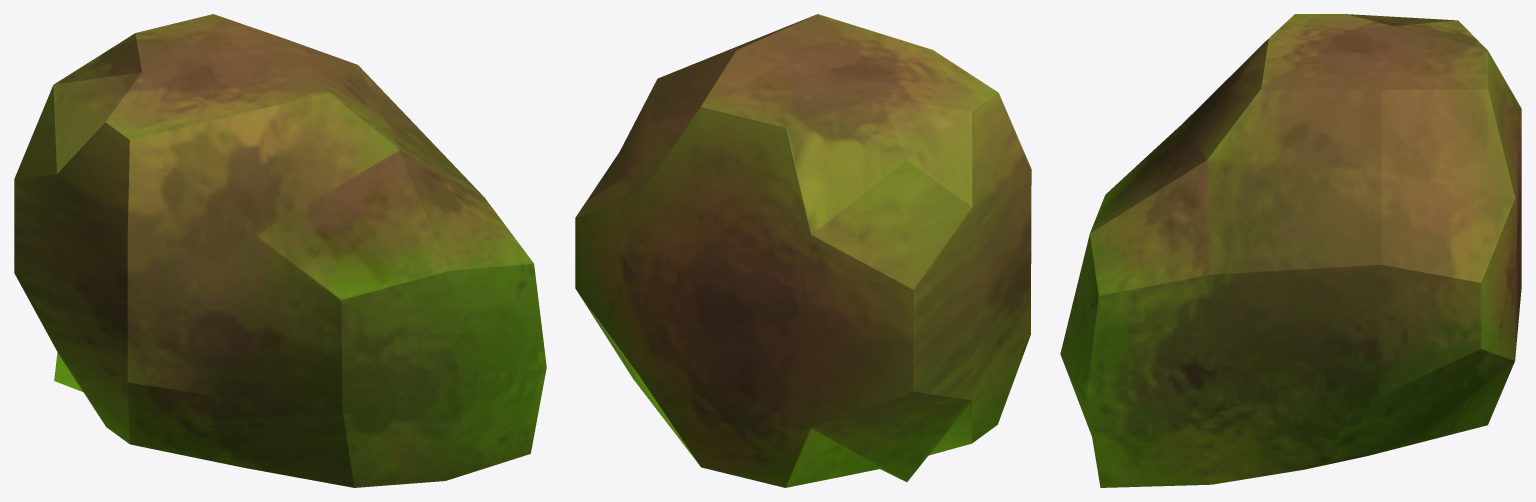
Rendered from Rocas02.fbx.
3 renders of one model, left to right at view 1: azimuth 30°, elevation 25°; view 2: azimuth 150°, elevation 25°; view 3: azimuth 270°, elevation 25°, orthographic. The views are drawn at different scales.
Visible parts, largest first — view 1: Roca1; view 2: Roca1; view 3: Roca1.
Part boxes in pixels (x1,y1,x2,y2): Roca1: (14, 14, 546, 487); Roca1: (575, 14, 1031, 487); Roca1: (1060, 14, 1521, 487).
Size of the model in its own units: 129 by 127 by 145.
